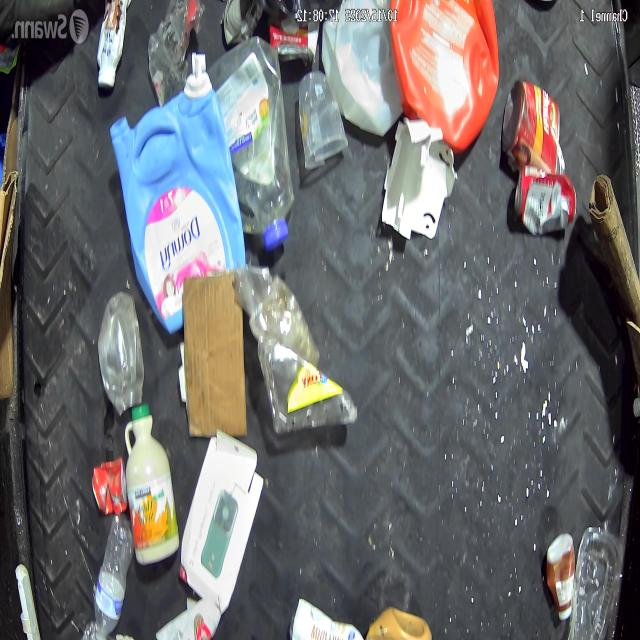can: (500, 80, 564, 164), (511, 165, 579, 238)
milk_jug: (321, 5, 394, 140)
non_white_jug: (110, 76, 241, 336), (397, 4, 499, 155)
plastic_bottle: (206, 33, 295, 253), (87, 511, 137, 640)
